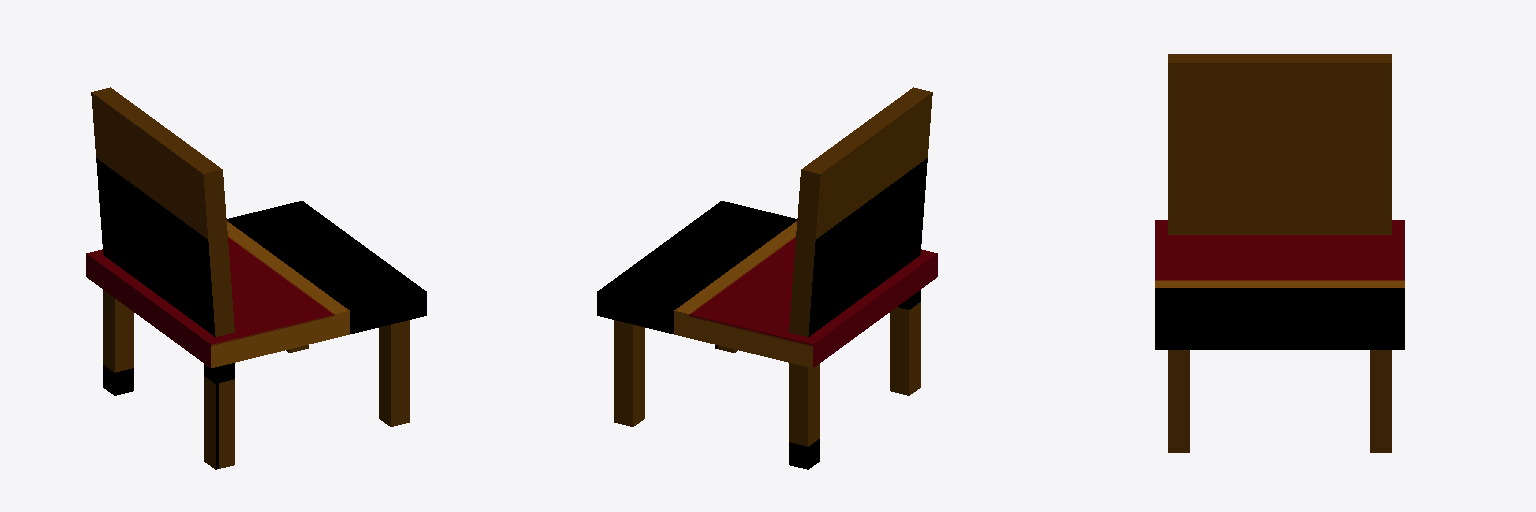
3 renders of one model, left to right at view 1: azimuth 30°, elevation 25°; view 2: azimuth 150°, elevation 25°; view 3: azimuth 270°, elevation 25°, orthographic.
Parts seen in each view (by area): view 1: pCube2; view 2: pCube2; view 3: pCube2.
Part boxes in pixels (x1,y1,x2,y2): pCube2: (86,87,426,469); pCube2: (597,87,937,469); pCube2: (1155,54,1404,452).
Size of the model in its own units: 1.01 by 1.32 by 1.
Materials: 1 (1 with a texture image).